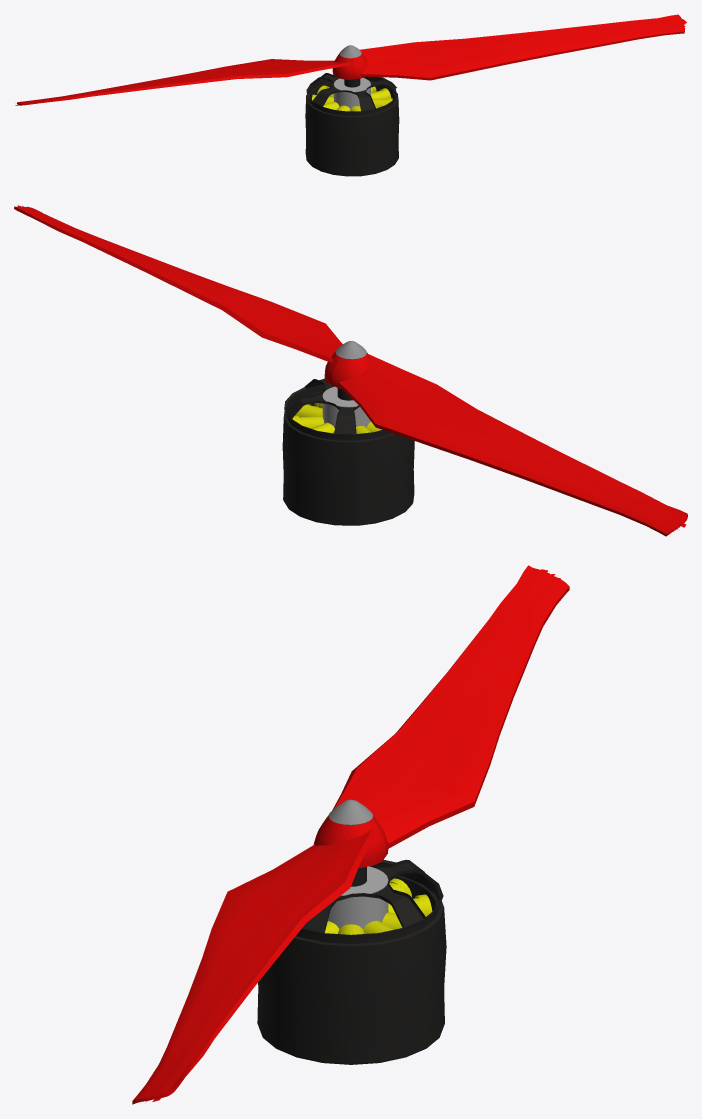
Rendered from motor_type_9.fbx.
The picture shows the model from 3 angles, top to bottom: view 1: azimuth 30°, elevation 25°; view 2: azimuth 150°, elevation 25°; view 3: azimuth 270°, elevation 25°; orthographic projection. The views are drawn at different scales.
Parts seen in each view (by area): view 1: polySurface30, pCylinder29, pCylinder28; view 2: polySurface30, pCylinder29, pCylinder28; view 3: polySurface30, pCylinder29, pCylinder28, polySurface29.
Part boxes in pixels (x1,y1,x2,y2): polySurface30: (15,14,686,105); pCylinder29: (305,73,399,176); pCylinder28: (333,78,370,108); polySurface30: (14,205,687,536); pCylinder29: (282,378,414,525); pCylinder28: (322,386,370,427); polySurface30: (132,565,569,1104); pCylinder29: (257,859,446,1064); pCylinder28: (328,866,388,928); polySurface29: (328,799,373,824).
Bounding box in the file's own units: 17.81 × 3.32 × 5.89.
